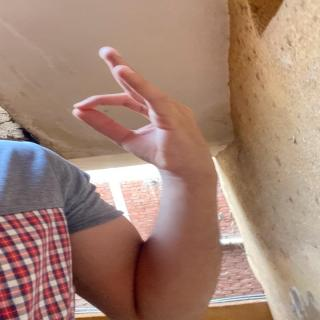Space: (70, 43, 212, 170)
